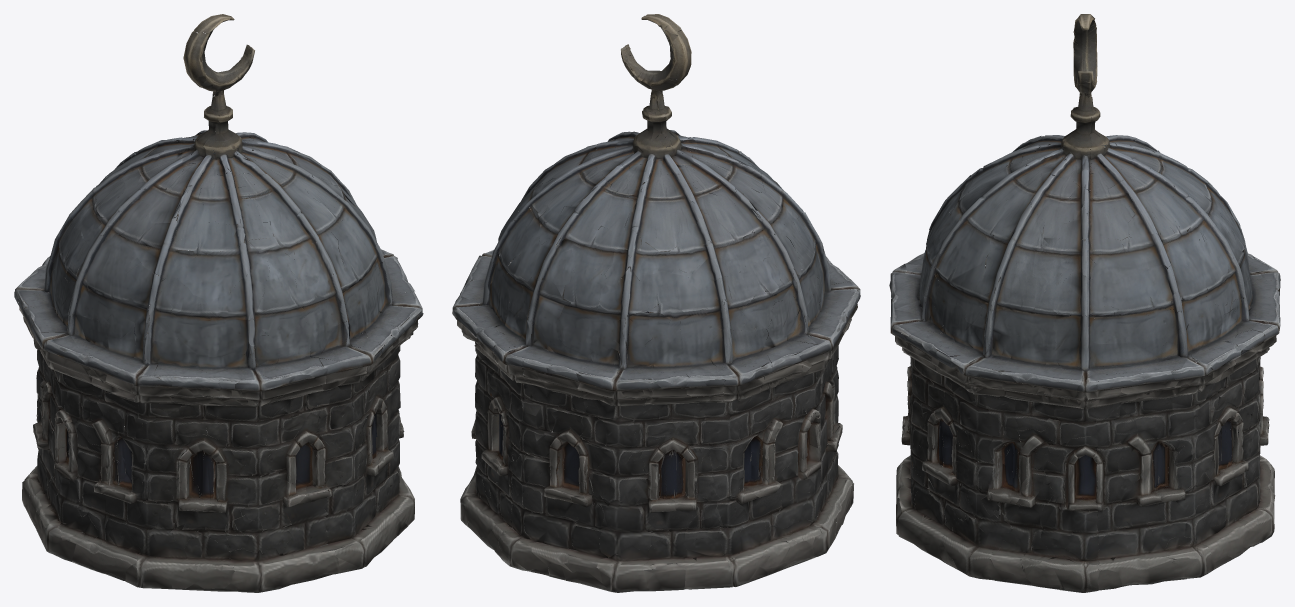
Rendered from M11_Dome.fbx.
3 renders of one model, left to right at view 1: azimuth 30°, elevation 25°; view 2: azimuth 150°, elevation 25°; view 3: azimuth 270°, elevation 25°, orthographic.
Visible parts, largest first — view 1: M11_Dome.035; view 2: M11_Dome.035; view 3: M11_Dome.035.
Part boxes in pixels (left/top/right/bottom): M11_Dome.035: left=14, top=14, right=423, bottom=592; M11_Dome.035: left=452, top=14, right=860, bottom=592; M11_Dome.035: left=889, top=14, right=1280, bottom=592.
Size of the model in its own units: 3.72 by 5 by 3.59.
1 material, 1 textured.
